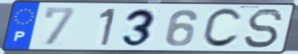1: (97, 8, 117, 48)
3: (119, 6, 161, 49)
6: (164, 8, 199, 48)
7: (41, 6, 79, 48)
C: (199, 7, 244, 50)
S: (242, 8, 286, 50)
